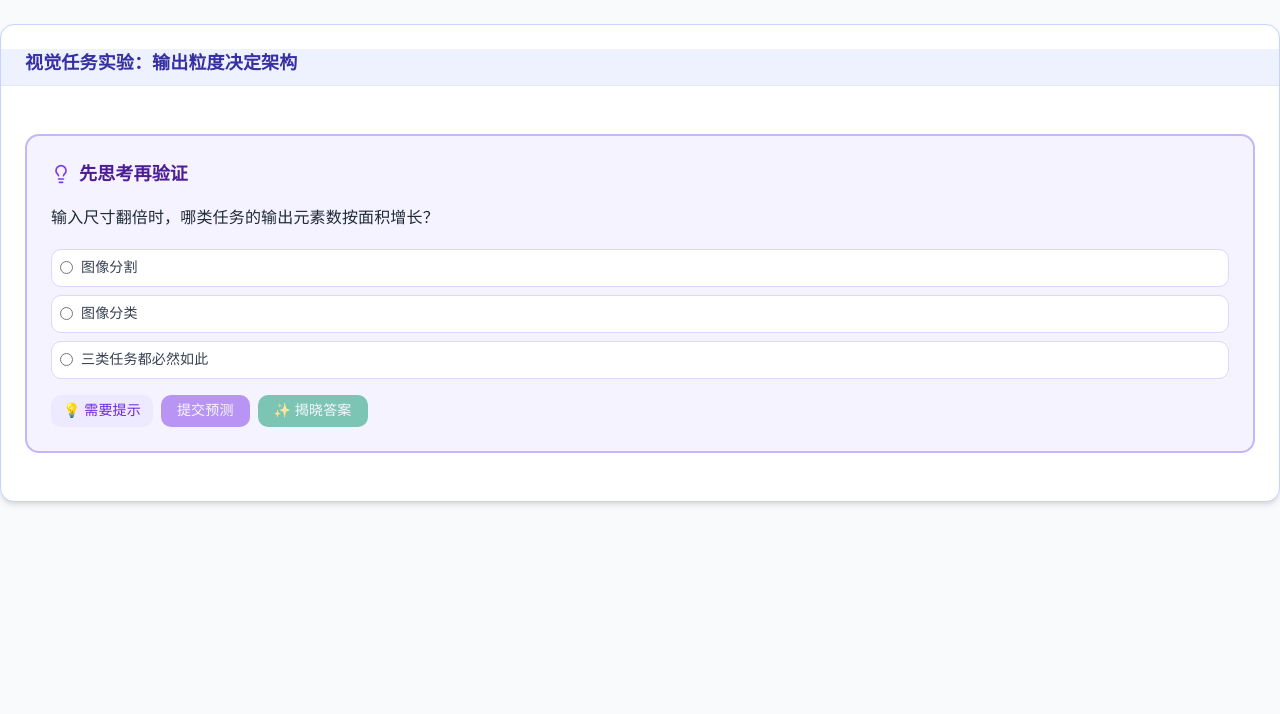
Test: chapter 7 teaching-ready learning loop › gates the output-granularity experiment until a prediction is submitted
Click the radio button labelled "图像分割".
click(66, 268)  # box [60, 261, 73, 274]
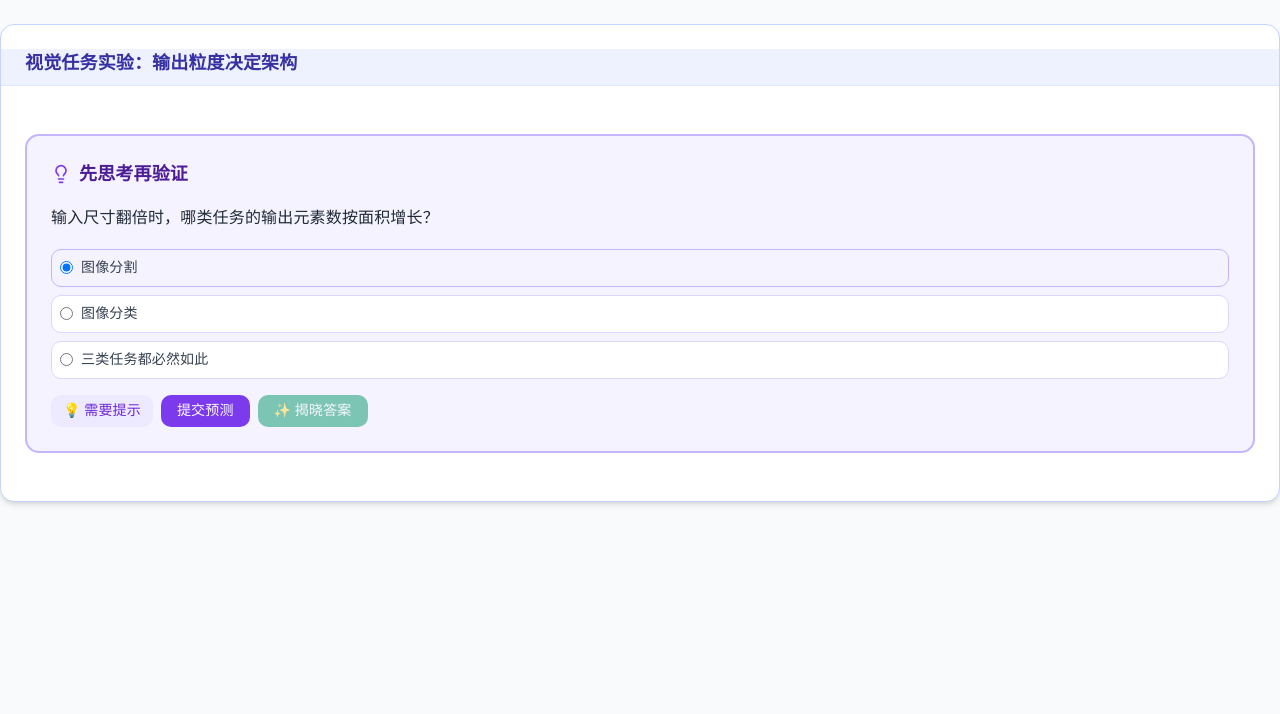
Click the button "提交预测".
click(205, 411)  # box [161, 395, 250, 427]
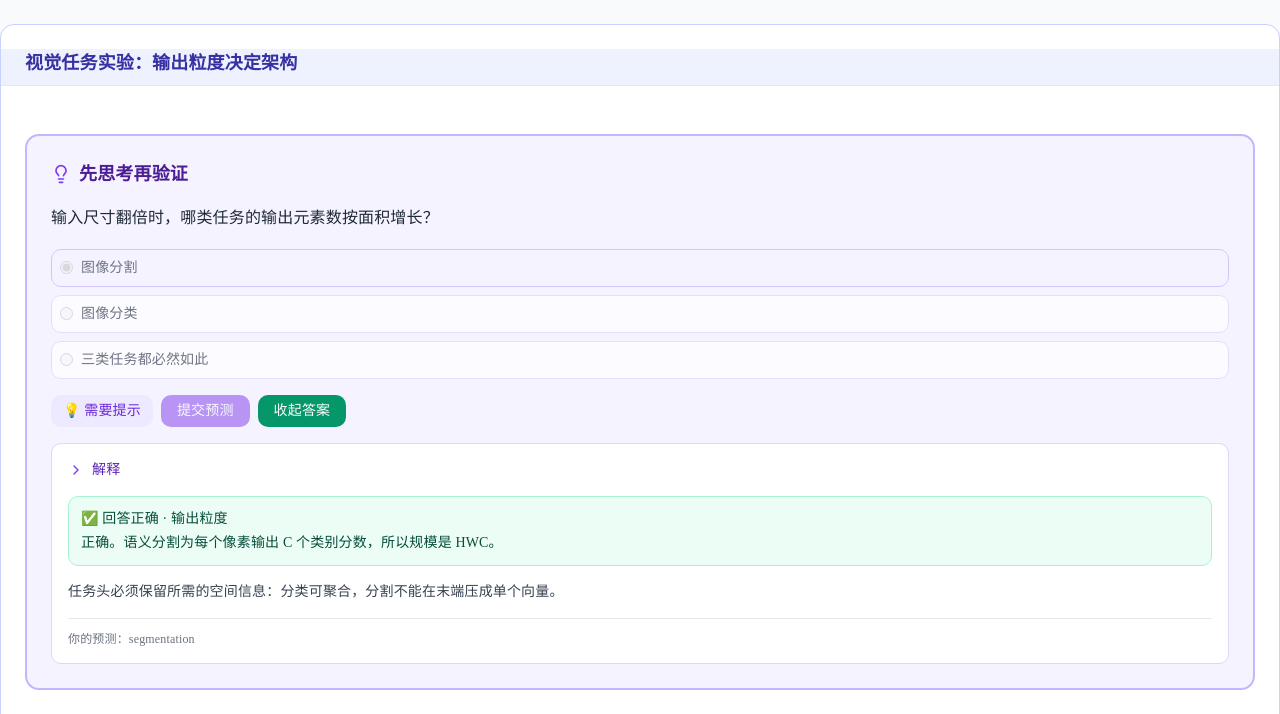
Expected: the text "✅ 回答正确 · 输出粒度" is shown, [81, 511, 228, 526]
